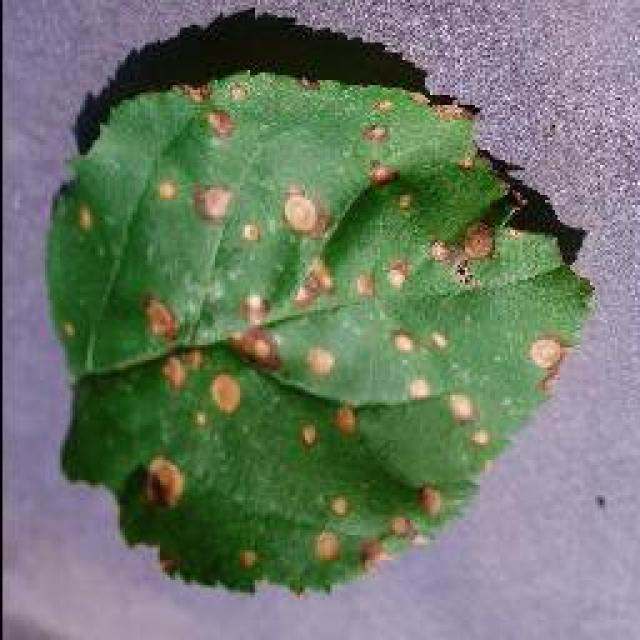apple black rot: (43, 8, 595, 598)
